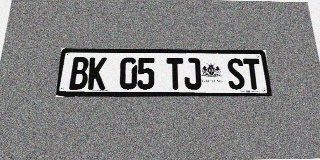0: (119, 57, 137, 90)
5: (137, 58, 155, 90)
B: (69, 57, 89, 90)
J: (184, 58, 202, 89)
K: (87, 57, 107, 90)
S: (226, 58, 246, 89)
T: (243, 58, 263, 89), (167, 58, 184, 89)
